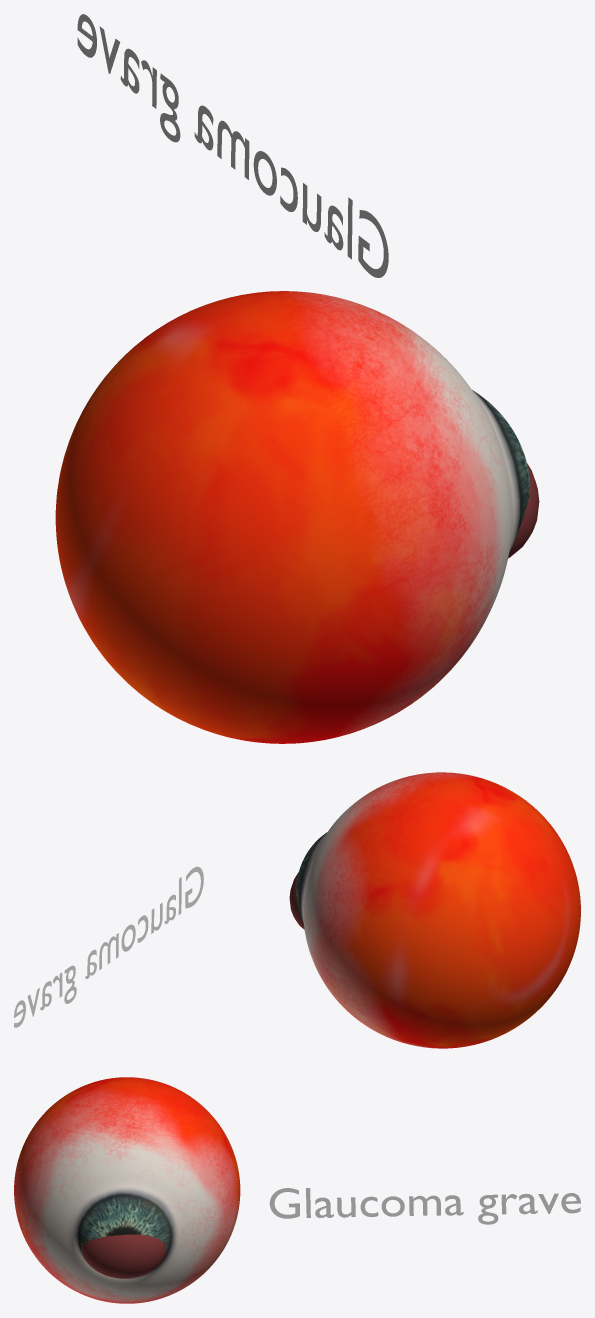
The model's file is Glaucoma.fbx.
The picture shows the model from 3 angles, top to bottom: view 1: azimuth 30°, elevation 25°; view 2: azimuth 150°, elevation 25°; view 3: azimuth 270°, elevation 25°; orthographic projection. The views are drawn at different scales.
Visible parts, largest first — view 1: CORNEA_GLAUCOMA, Glaucoma_Texto, Infeccion_Glaucoma; view 2: CORNEA_GLAUCOMA, Glaucoma_Texto; view 3: CORNEA_GLAUCOMA, Glaucoma_Texto, Infeccion_Glaucoma.
Boxes of the visible parts, bbox=[...] form: CORNEA_GLAUCOMA: bbox=[55, 291, 530, 743]; Glaucoma_Texto: bbox=[77, 14, 388, 277]; Infeccion_Glaucoma: bbox=[508, 463, 539, 558]; CORNEA_GLAUCOMA: bbox=[296, 772, 580, 1048]; Glaucoma_Texto: bbox=[14, 866, 203, 1027]; CORNEA_GLAUCOMA: bbox=[14, 1077, 240, 1303]; Glaucoma_Texto: bbox=[269, 1188, 580, 1224]; Infeccion_Glaucoma: bbox=[81, 1234, 166, 1278].
Bounding box in the file's own units: 224 × 197 × 494.
